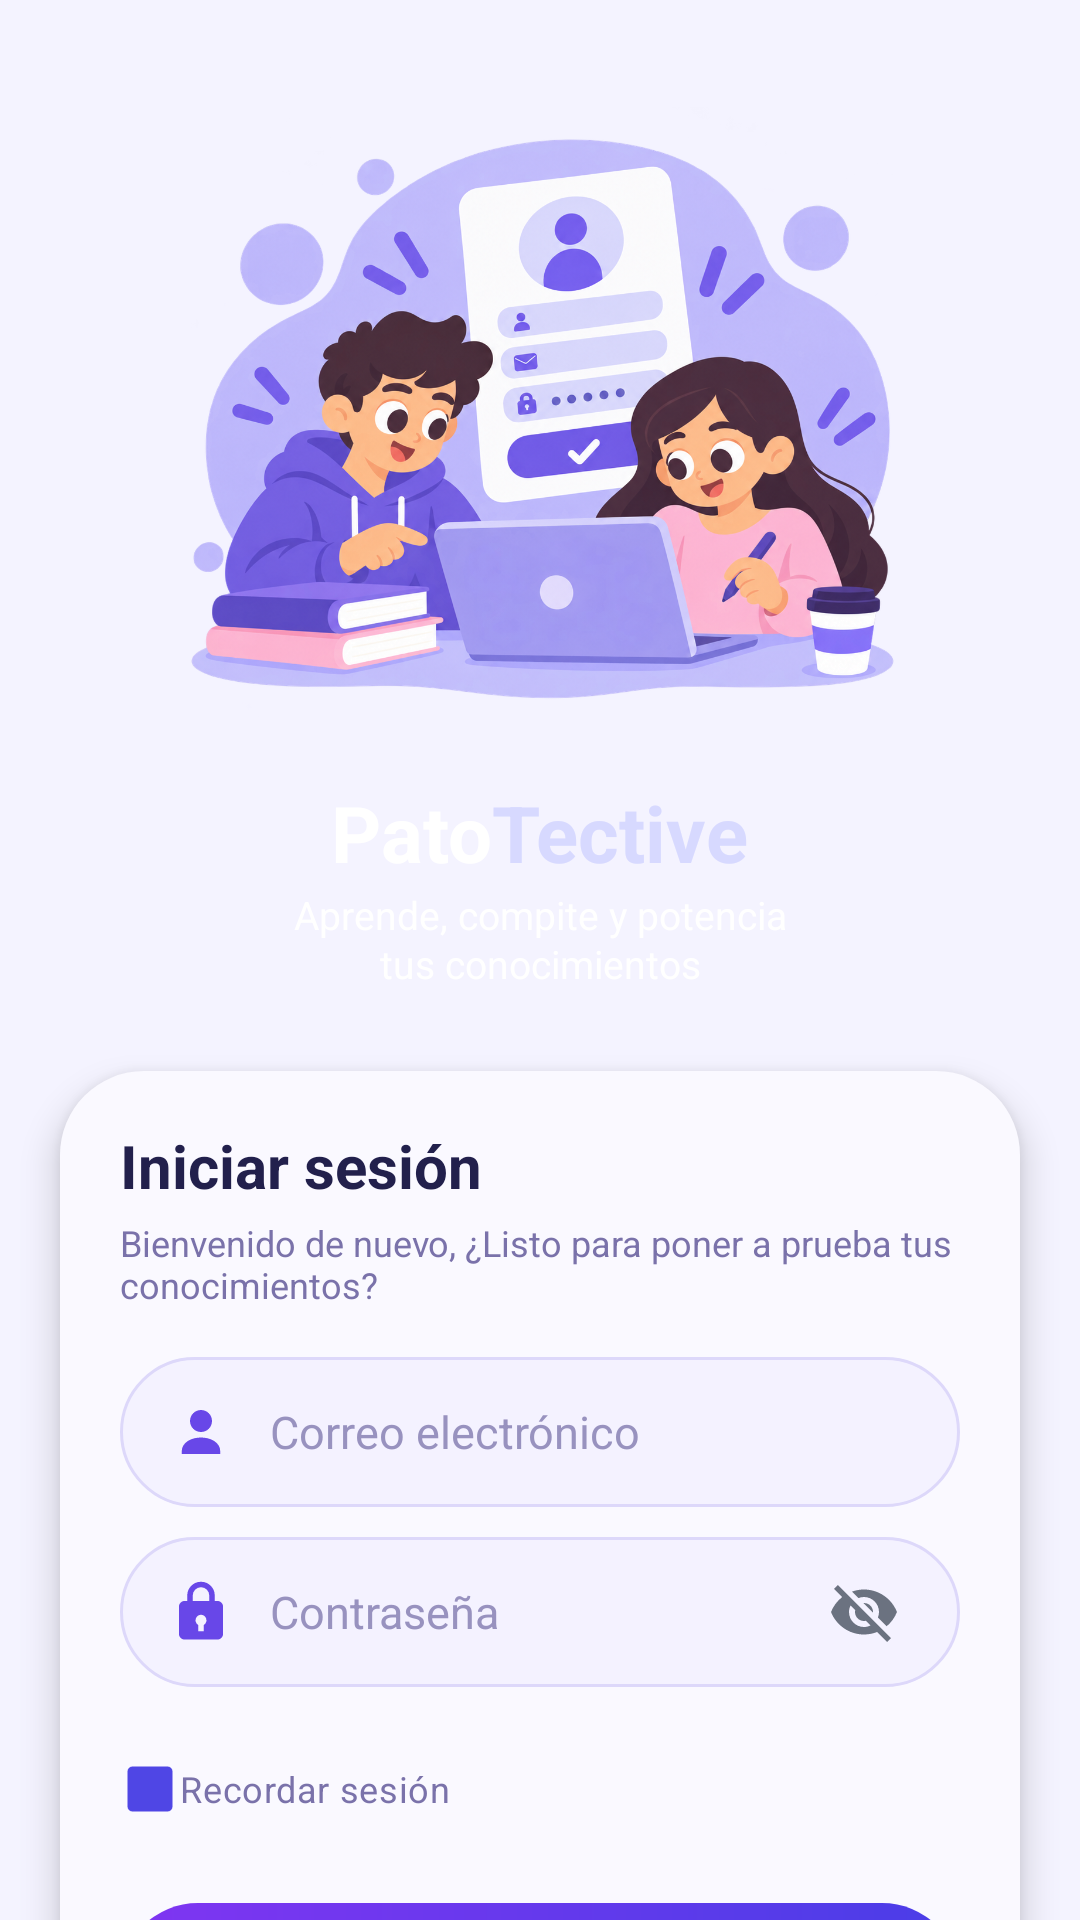

Named icons in this screenshot (1080×1920) and their centers, (x,y):
login lock: (201,1610)
login user: (201,1432)
